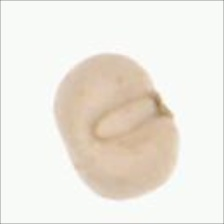L5: (84, 90, 160, 144), (54, 118, 89, 175), (147, 86, 178, 123)
L6: (49, 50, 184, 205)
